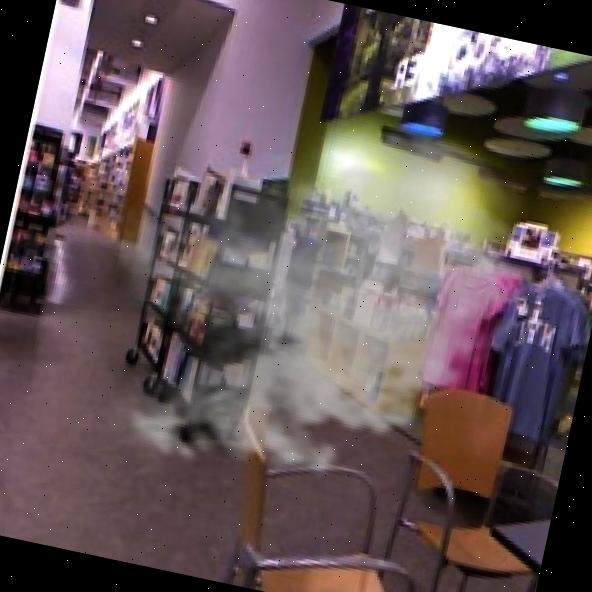smoke: (71, 67, 566, 539)
